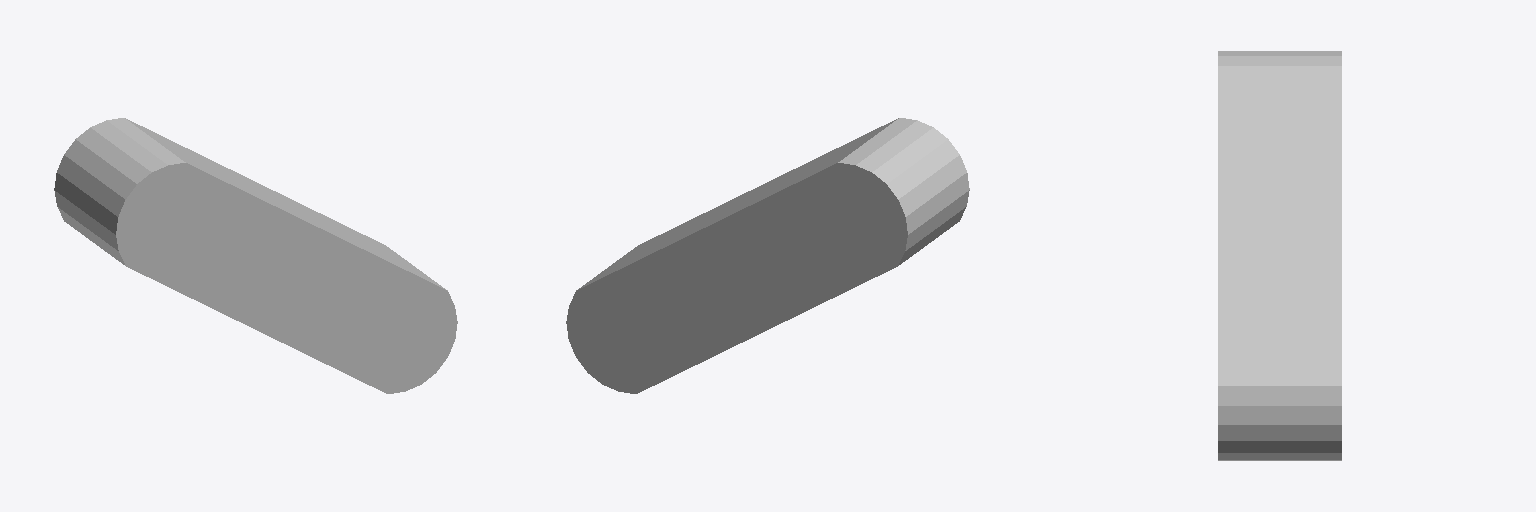
The model's file is Paddle_Left.obj.
3 views of the same model, side by side, from view 1: azimuth 30°, elevation 25°; view 2: azimuth 150°, elevation 25°; view 3: azimuth 270°, elevation 25° (orthographic).
Parts seen in each view (by area): view 1: Paddle_Left; view 2: Paddle_Left; view 3: Paddle_Left.
Boxes of the visible parts, x1,y1,x2,y2 form: Paddle_Left: [54, 118, 457, 393]; Paddle_Left: [566, 118, 969, 393]; Paddle_Left: [1218, 51, 1341, 460].
Bounding box in the file's own units: 0.1832 × 0.1454 × 0.0572.